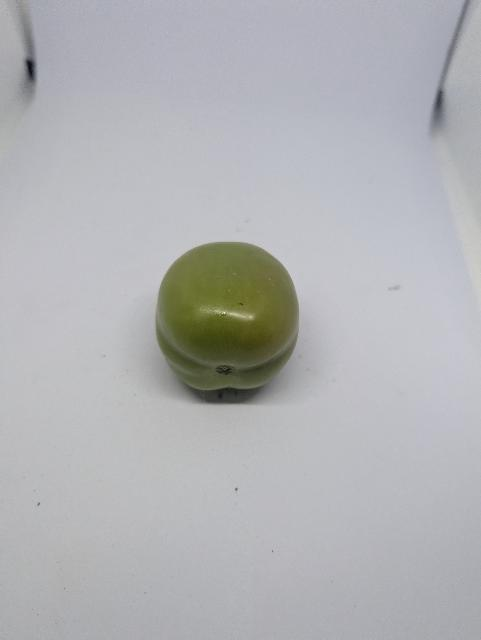green: (124, 201, 346, 435)
